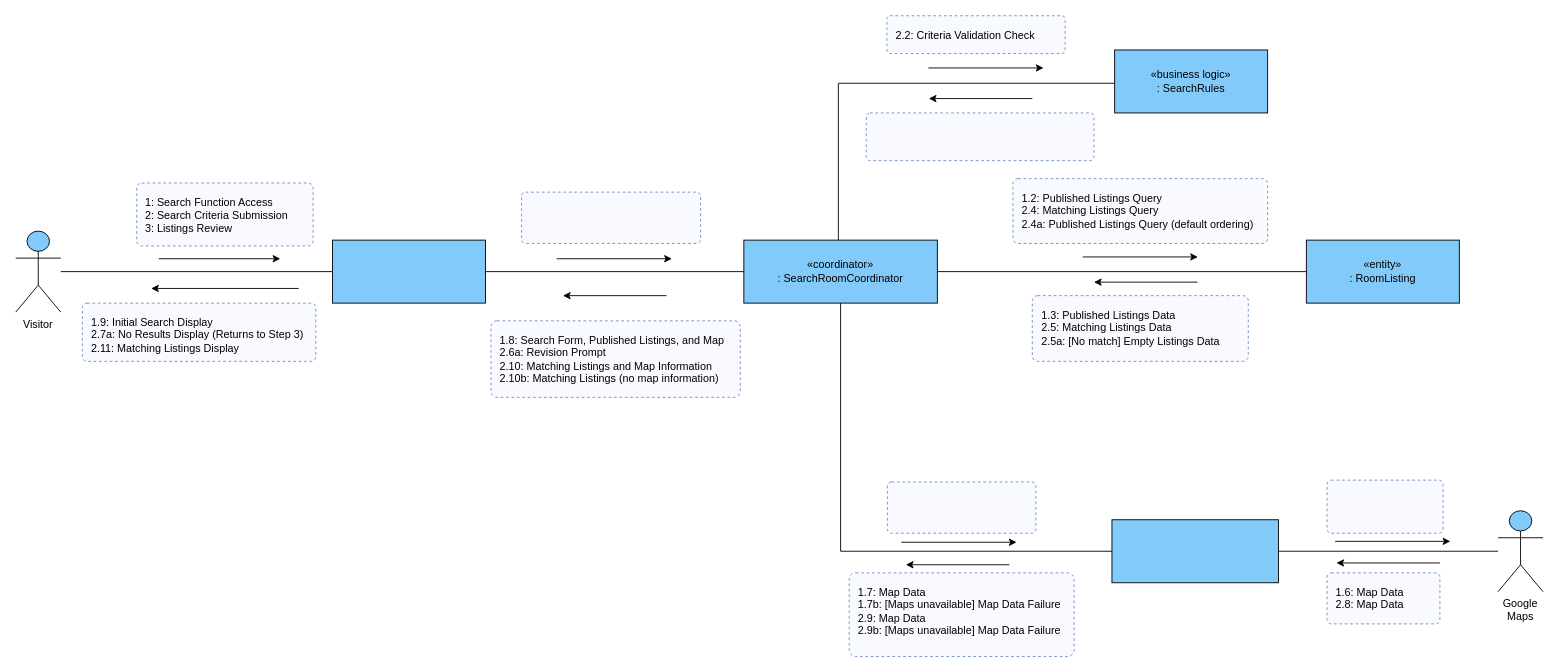
Some shapes in this 1559 by 672 pixel diagram are drawn without their labels. The shapes that lost their labels are listed below. From the top down, each one's box as (x1, y1, x2, y2) in pixels, then its label:
(865, 112, 1094, 161): 2.3: Validation Result (Valid) 2.3a: [No criteria] Validation Result (Empty)
(521, 191, 701, 243): 1.1: Initial Search Page Request 2.1: Search Criteria Data
(332, 239, 486, 303): «user interaction» : VisitorUI
(886, 481, 1036, 533): 1.4: Map Data Request 2.6: Map Data Request
(1326, 479, 1443, 533): 1.5: Map Request 2.7: Map Request
(1111, 519, 1278, 583): «proxy» : GoogleMapsProxy
